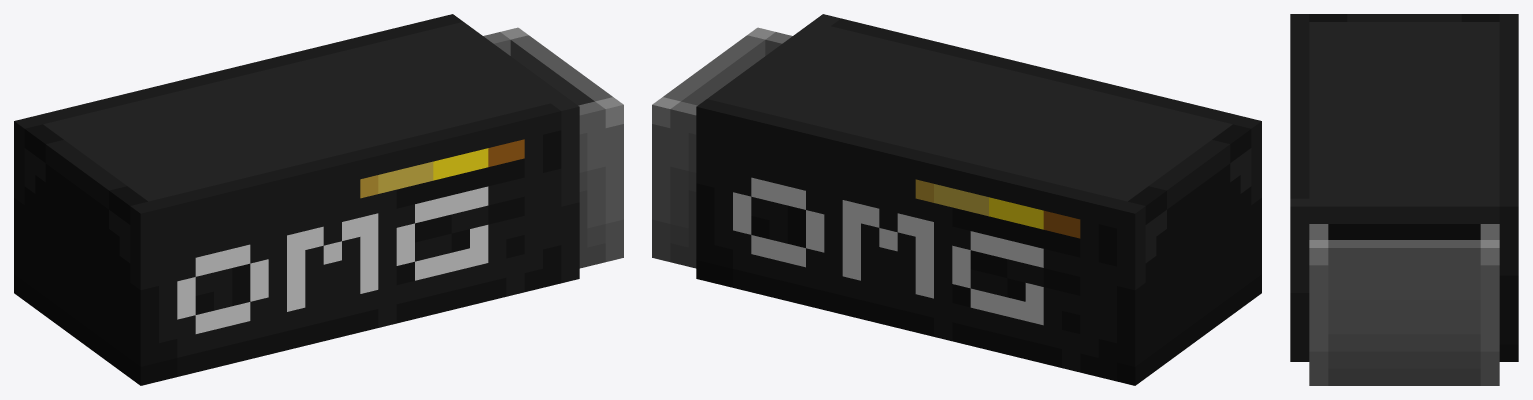
Rendered from OMGbxE.obj.
3 renders of one model, left to right at view 1: azimuth 30°, elevation 25°; view 2: azimuth 150°, elevation 25°; view 3: azimuth 270°, elevation 25°, orthographic. The views are drawn at different scales.
Bounding box in the file's own units: 2.7 × 0.9 × 1.2.
Materials: 1 (1 with a texture image).
